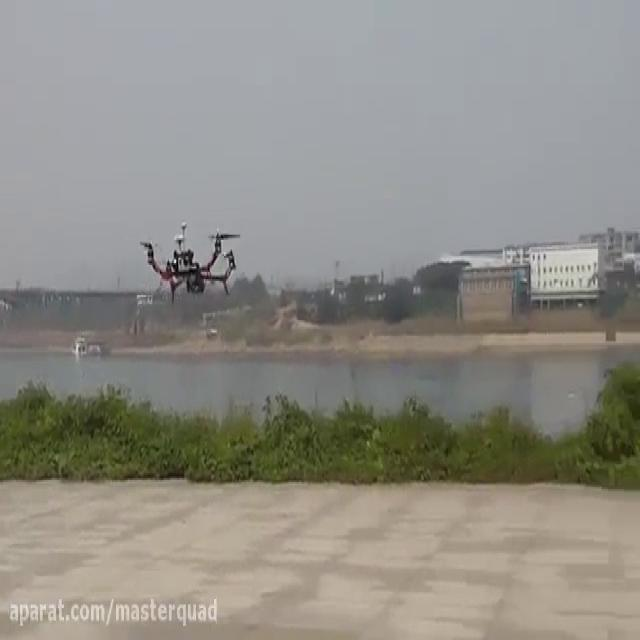drone: (137, 217, 244, 306)
